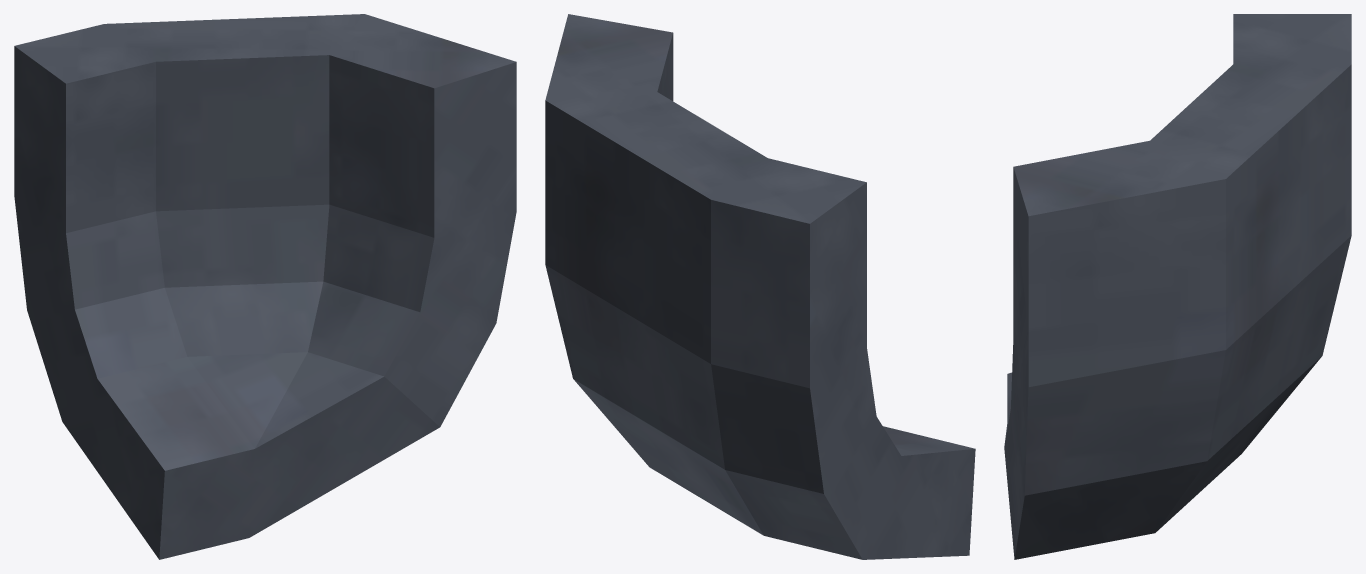
The model's file is balk_12.glb.
3 renders of one model, left to right at view 1: azimuth 30°, elevation 25°; view 2: azimuth 150°, elevation 25°; view 3: azimuth 270°, elevation 25°, orthographic. The views are drawn at different scales.
Parts seen in each view (by area): view 1: Куб.007; view 2: Куб.007; view 3: Куб.007.
Boxes of the visible parts, <box> form: Куб.007: <box>14,14,516,559</box>; Куб.007: <box>545,14,975,559</box>; Куб.007: <box>1004,14,1351,559</box>.
Size of the model in its own units: 3.06 by 3.3 by 2.23.
1 material, 1 textured.
